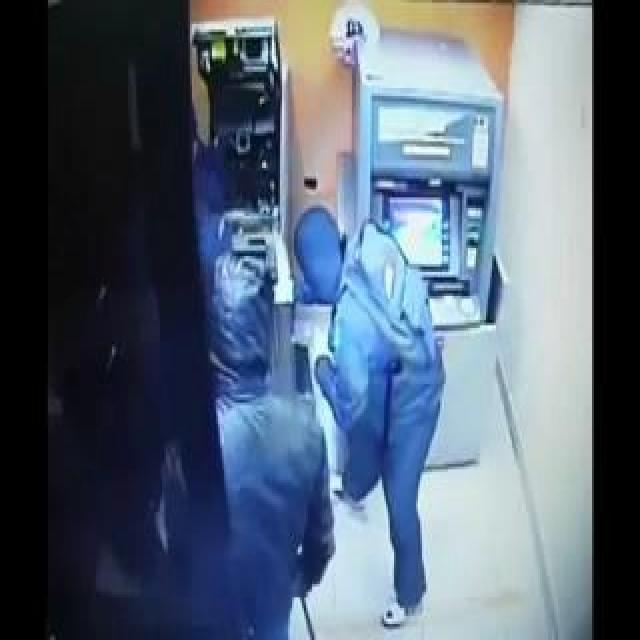thief: (185, 227, 372, 394)
